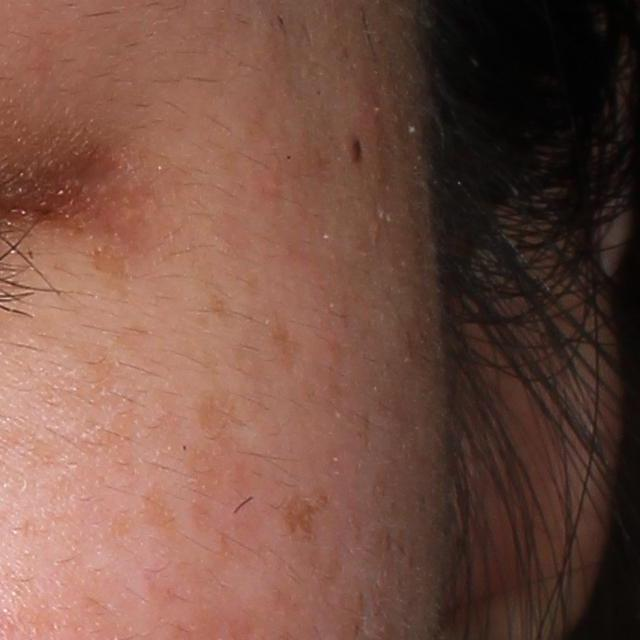melasma: (30, 316, 141, 420), (70, 403, 141, 481), (134, 475, 181, 530), (82, 245, 137, 285), (280, 484, 319, 538), (267, 318, 302, 377)
nevus: (348, 132, 365, 166)
